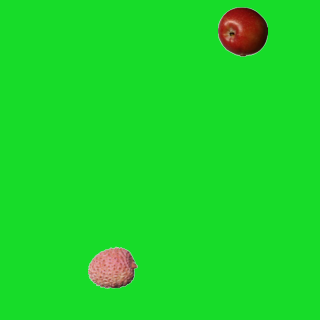Apple Braeburn: (217, 6, 267, 56)
Lychee: (87, 242, 137, 292)
